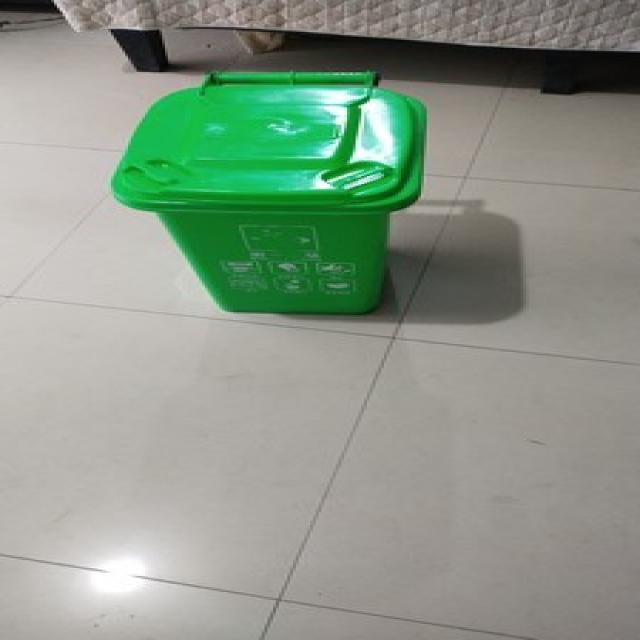ash bin: (105, 69, 424, 315)
